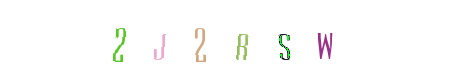2: (128, 0, 208, 80), (169, 0, 249, 80)
J: (168, 0, 248, 80)
R: (195, 0, 275, 80)
S: (244, 0, 324, 80)
W: (283, 0, 363, 80)
